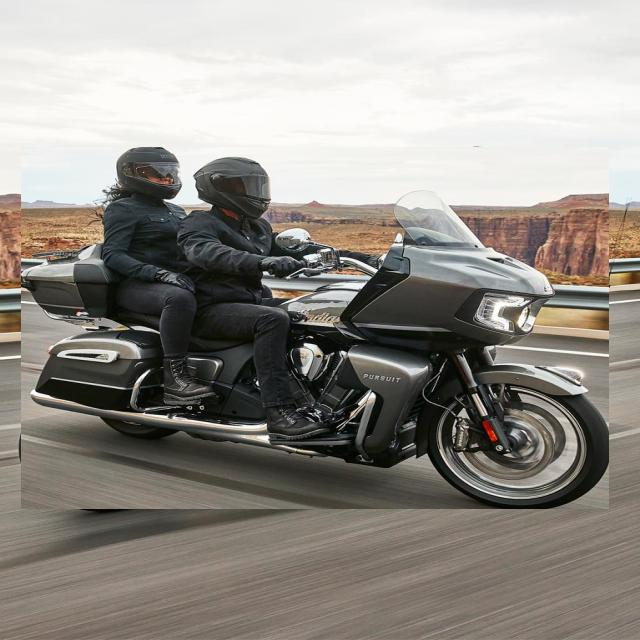motorcycle: (21, 147, 609, 509)
